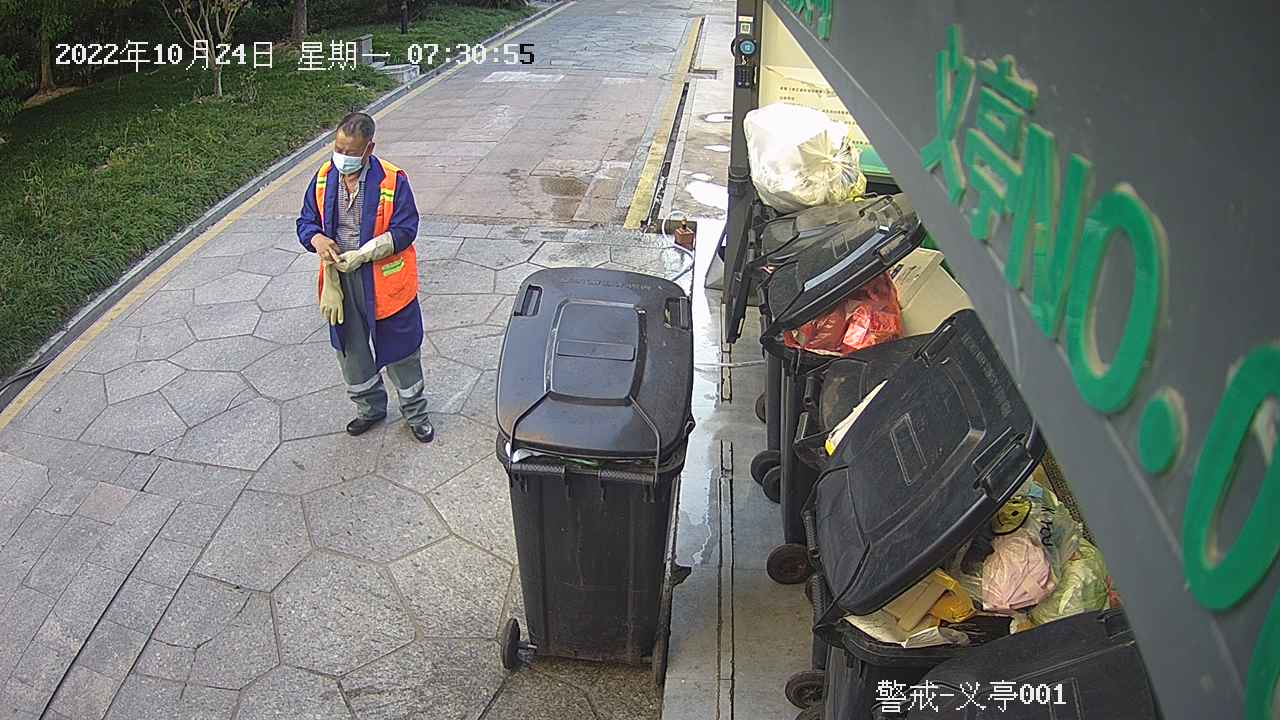worker: (292, 107, 441, 445)
